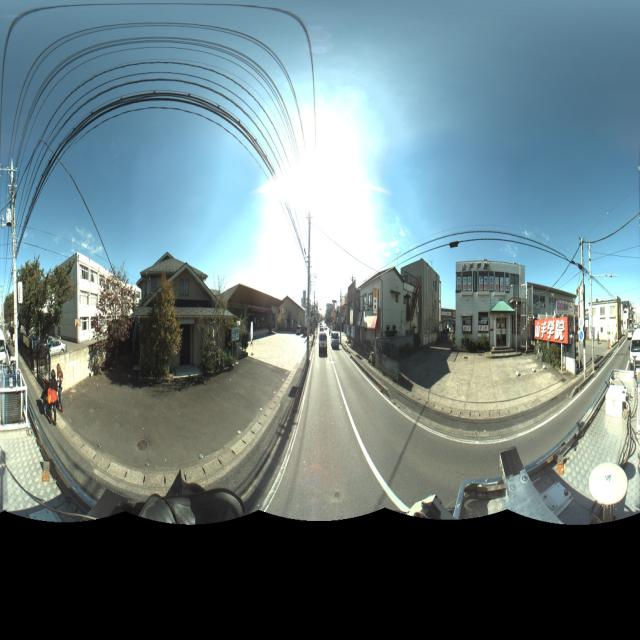b_1: (454, 250, 524, 355), (361, 268, 422, 353), (526, 276, 580, 346), (412, 258, 446, 344), (586, 290, 624, 345), (276, 294, 312, 339)
b_2: (138, 246, 226, 399), (42, 259, 144, 363)
